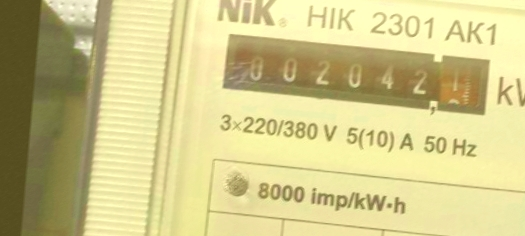0: (343, 60, 364, 92), (245, 52, 265, 84), (279, 54, 298, 87)
1: (445, 64, 462, 96)
2: (311, 58, 332, 89), (409, 67, 429, 97)
4: (376, 61, 397, 94)
screen: (216, 30, 495, 126)
